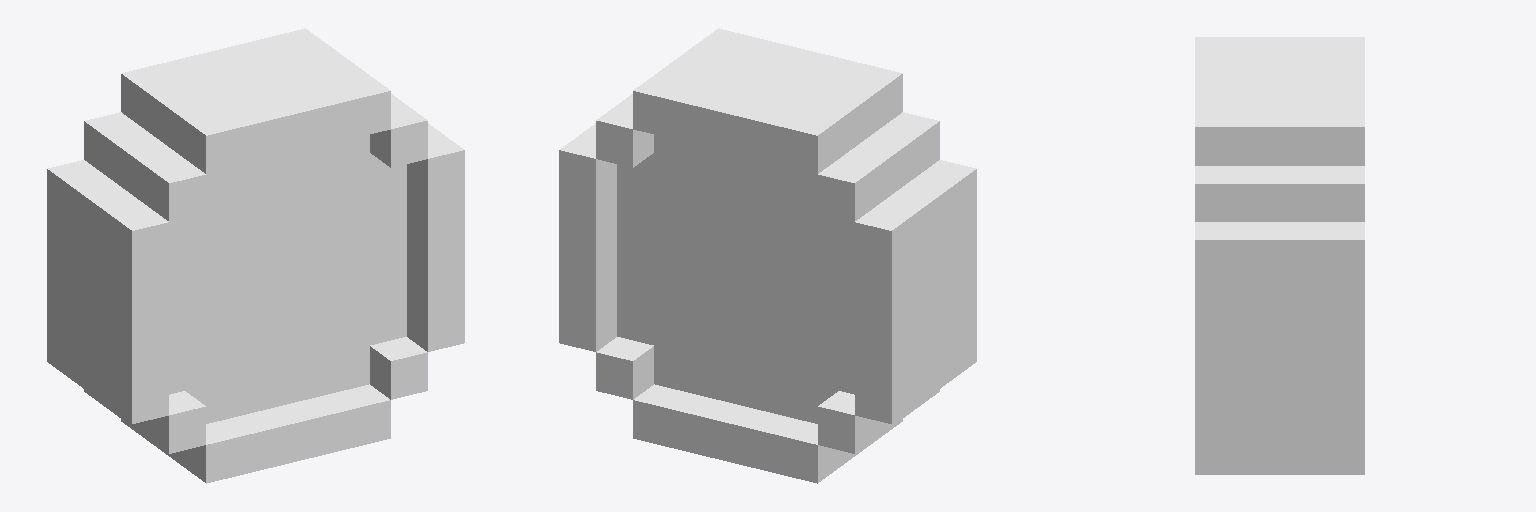
Rendered from Regular-Pickup-Truck-(Tire-Only).obj.
The picture shows the model from 3 angles: view 1: azimuth 30°, elevation 25°; view 2: azimuth 150°, elevation 25°; view 3: azimuth 270°, elevation 25°; orthographic projection.
Parts seen in each view (by area): view 1: object 1; view 2: object 1; view 3: object 1.
Part boxes in pixels (x1,y1,x2,y2): object 1: (47, 28, 464, 483); object 1: (559, 28, 976, 483); object 1: (1195, 37, 1364, 474).
Bounding box in the file's own units: 0.9 × 0.9 × 0.4.